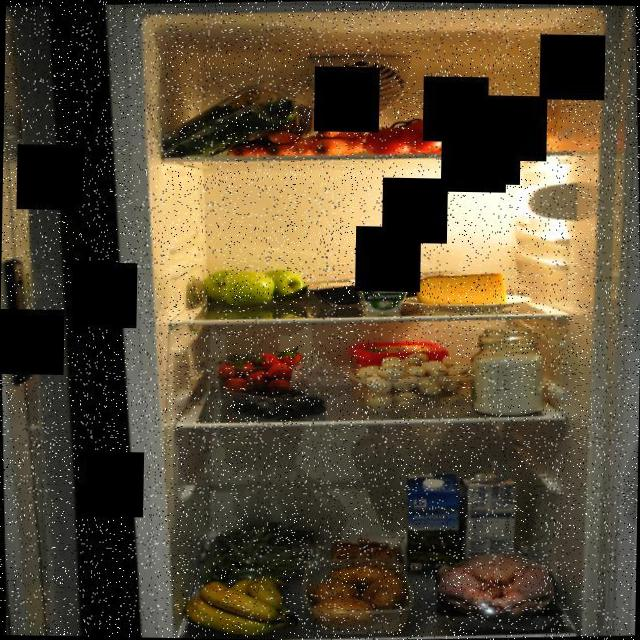Carne pollo: (431, 548, 566, 636)
Cebolla: (459, 92, 548, 154)
Champiñones: (346, 346, 476, 416)
Gambas/Langostinos: (324, 534, 398, 567)
Leche: (458, 468, 518, 577), (404, 471, 464, 575)
Mantequilla: (349, 334, 450, 373)
Manzana: (201, 262, 316, 312)
Patata: (303, 558, 409, 632)
Plátano: (179, 573, 302, 637)
Queso: (412, 267, 510, 310)
Tomate: (363, 112, 465, 158)
Zanahoria: (228, 119, 365, 159)
